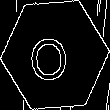O_N: (34, 28, 76, 82)
